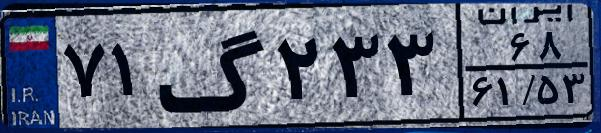1: (110, 28, 156, 98), (495, 70, 520, 125)
2: (270, 28, 330, 110)
3: (385, 28, 445, 110), (330, 28, 385, 110), (560, 70, 590, 125)
5: (535, 70, 560, 125)
6: (508, 27, 537, 80), (470, 70, 495, 125)
7: (57, 26, 110, 100)
8: (537, 27, 568, 80)
گ: (156, 12, 270, 120)
